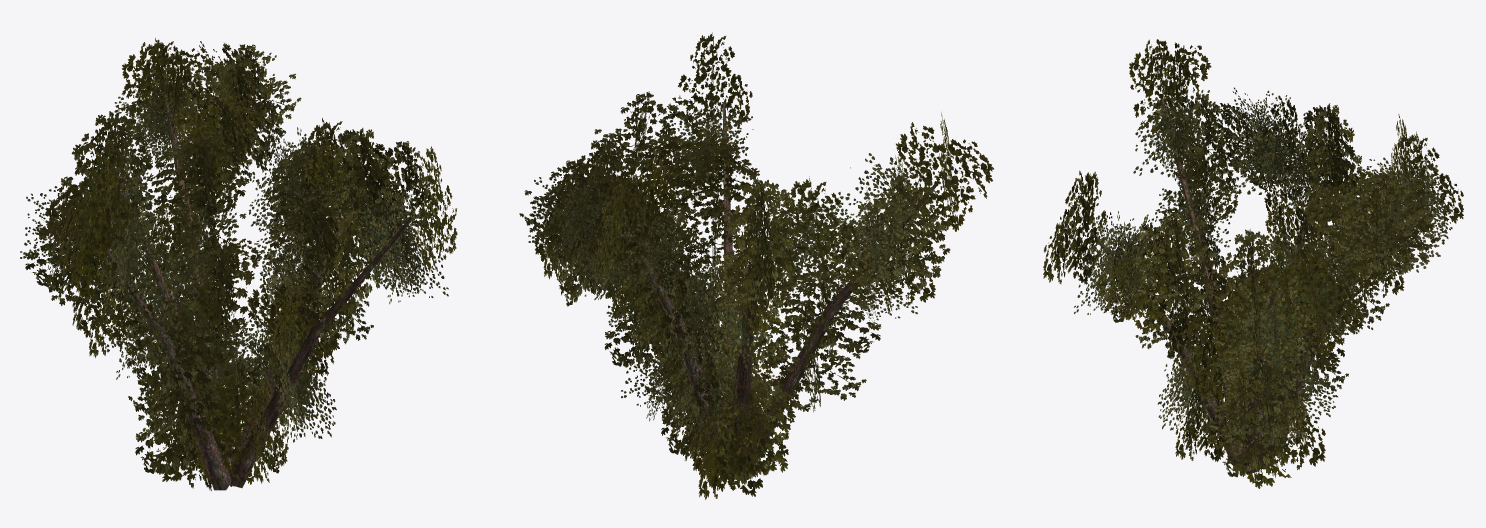
Rendered from bush_3d_03_lod1.glb.
3 renders of one model, left to right at view 1: azimuth 30°, elevation 25°; view 2: azimuth 150°, elevation 25°; view 3: azimuth 270°, elevation 25°, orthographic. The views are drawn at different scales.
Visible parts, largest first — view 1: foliage_cards, wood_geometry; view 2: foliage_cards, wood_geometry; view 3: foliage_cards, wood_geometry.
Part boxes in pixels (left/top/right/bottom): foliage_cards: left=20, top=38, right=457, bottom=490; wood_geometry: left=106, top=78, right=410, bottom=490; foliage_cards: left=519, top=32, right=993, bottom=499; wood_geometry: left=619, top=103, right=939, bottom=475; foliage_cards: left=1043, top=39, right=1463, bottom=488; wood_geometry: left=1089, top=98, right=1419, bottom=473.
Bounding box in the file's own units: 2.39 × 2.08 × 2.25.
2 materials, 2 textured.
